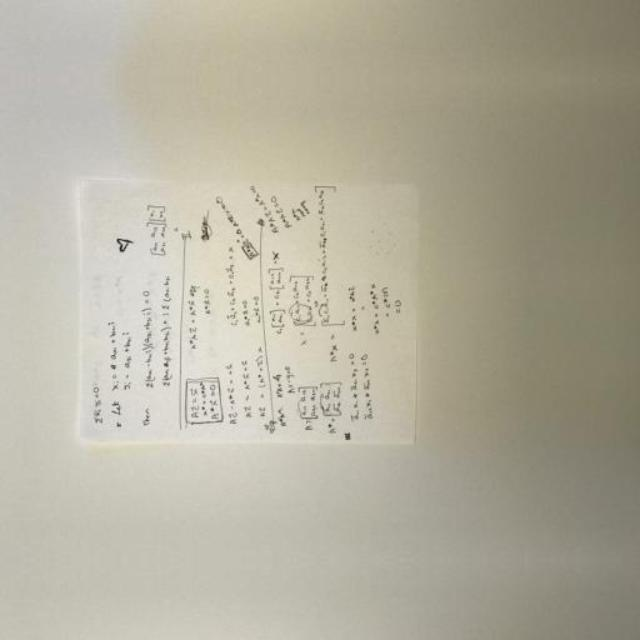paper: (66, 151, 460, 471), (65, 0, 460, 9)
